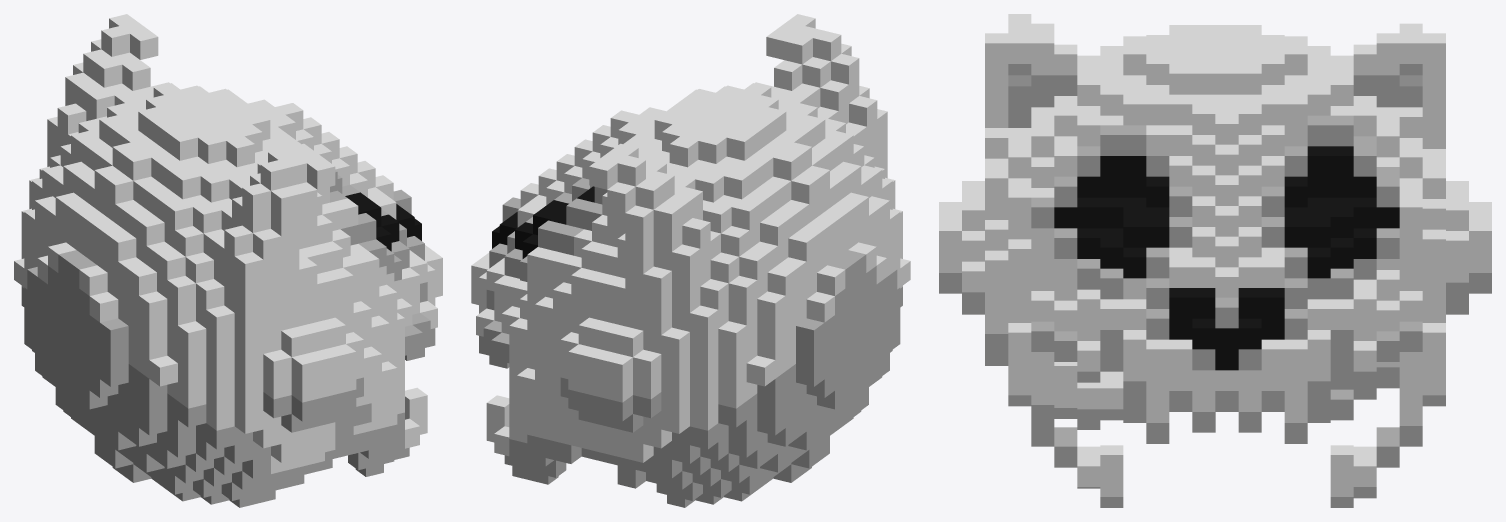
File: Mascara Gato.obj
3 renders of one model, left to right at view 1: azimuth 30°, elevation 25°; view 2: azimuth 150°, elevation 25°; view 3: azimuth 270°, elevation 25°, orthographic. The views are drawn at different scales.
Size of the model in its own units: 1.9 by 1.9 by 2.4.
